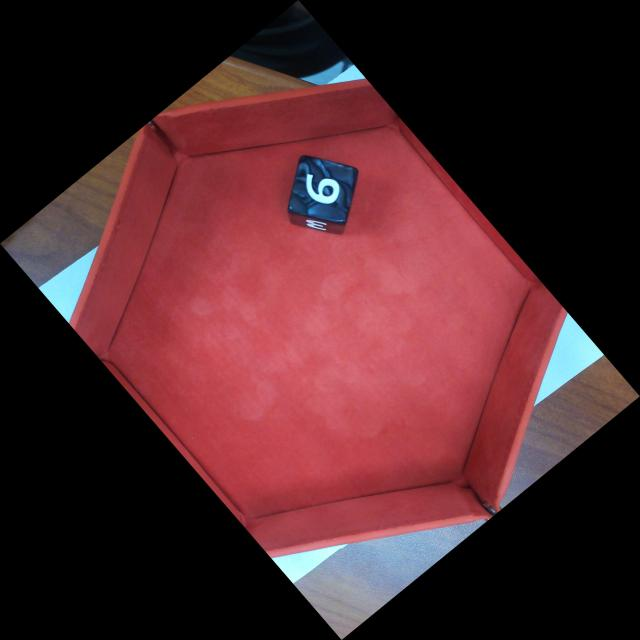dice: (288, 155, 359, 224)
